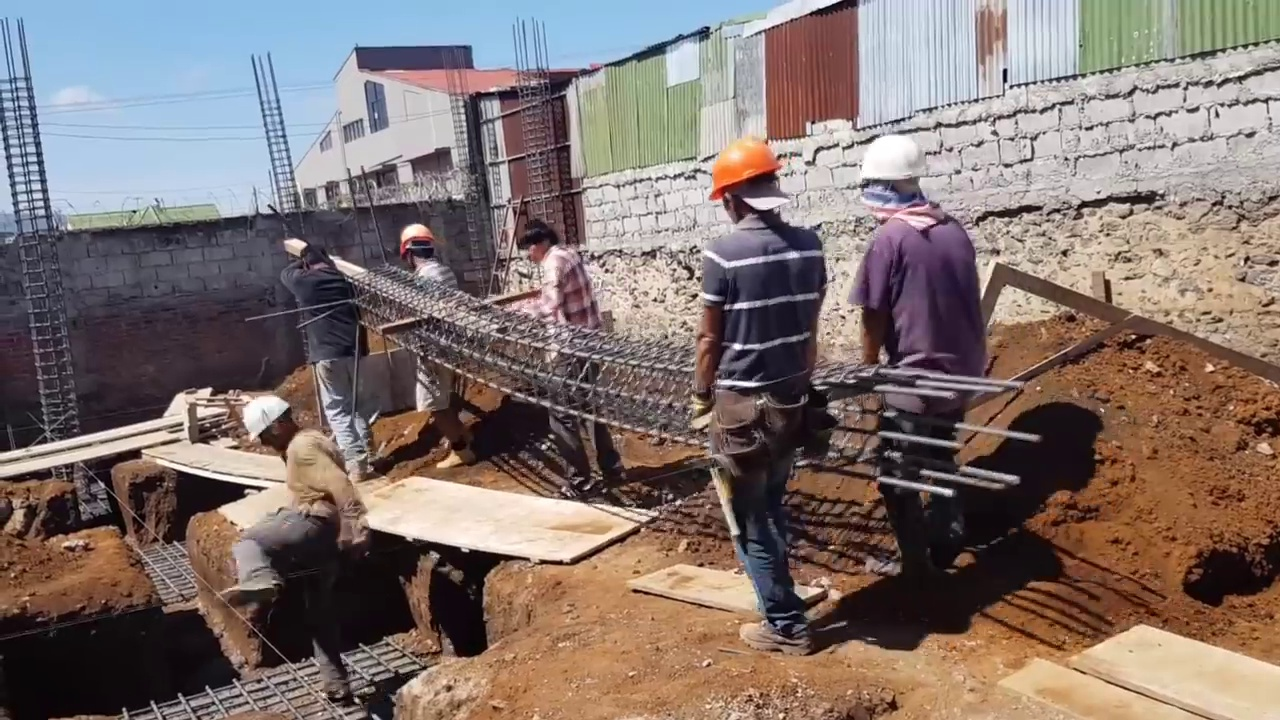helmet: (710, 141, 781, 206), (860, 138, 931, 182), (240, 393, 290, 443), (396, 221, 438, 254)
helmet-off: (515, 221, 561, 267), (298, 243, 337, 276)
helmet-on: (708, 141, 781, 229), (860, 139, 930, 222), (241, 394, 303, 455), (397, 221, 436, 271)
person: (687, 138, 826, 662), (848, 134, 985, 584), (219, 394, 368, 705), (515, 216, 629, 501), (281, 244, 387, 486), (395, 222, 474, 469)
